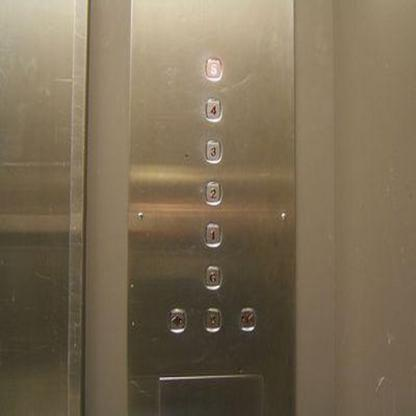1: (202, 218, 223, 250)
2: (202, 180, 222, 207)
3: (203, 136, 223, 164)
4: (203, 95, 223, 123)
5: (204, 54, 222, 80)
G: (202, 262, 222, 289)
blur: (200, 304, 224, 333), (239, 305, 256, 335)
open: (165, 306, 186, 334)
